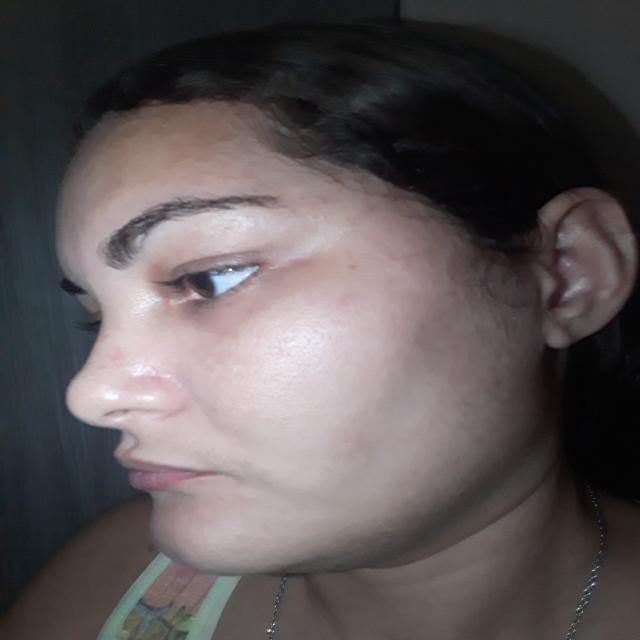Acne: (337, 288, 359, 310), (106, 346, 122, 366), (346, 263, 360, 273)
Wrinkles: (269, 251, 322, 269)
